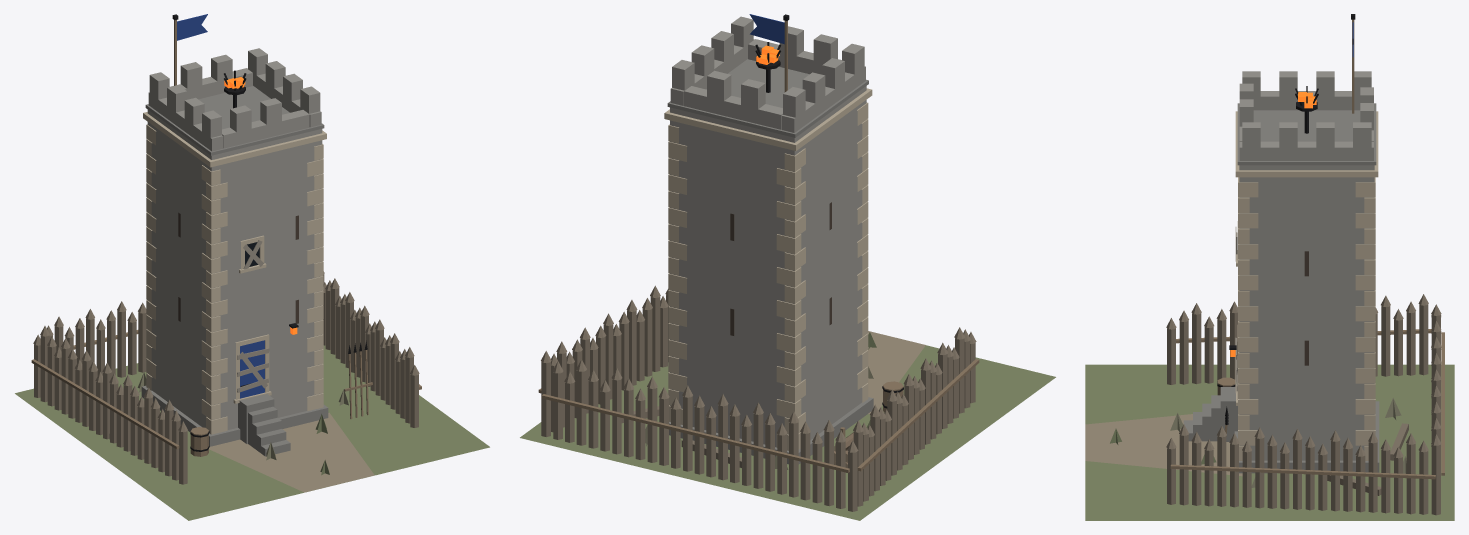
The model's file is wachturm.glb.
The picture shows the model from 3 angles, left to right: view 1: azimuth 30°, elevation 25°; view 2: azimuth 150°, elevation 25°; view 3: azimuth 270°, elevation 25°; orthographic projection. The views are drawn at different scales.
Parts seen in each view (by area): view 1: Haus, Arbeit, Leerstand, Fahne; view 2: Haus, Fahne, Arbeit; view 3: Haus, Leerstand, Arbeit.
Part boxes in pixels (left/top/right/bottom): Haus: left=15, top=48, right=489, bottom=520; Arbeit: left=118, top=77, right=372, bottom=456; Leerstand: left=109, top=240, right=348, bottom=475; Fahne: left=172, top=14, right=207, bottom=85; Haus: left=520, top=16, right=1055, bottom=520; Fahne: left=749, top=14, right=789, bottom=92; Arbeit: left=756, top=45, right=903, bottom=472; Haus: left=1085, top=71, right=1454, bottom=520; Leerstand: left=1110, top=227, right=1408, bottom=495; Arbeit: left=1217, top=92, right=1316, bottom=436.
Bounding box in the file's own units: 12 × 14.64 × 12.
